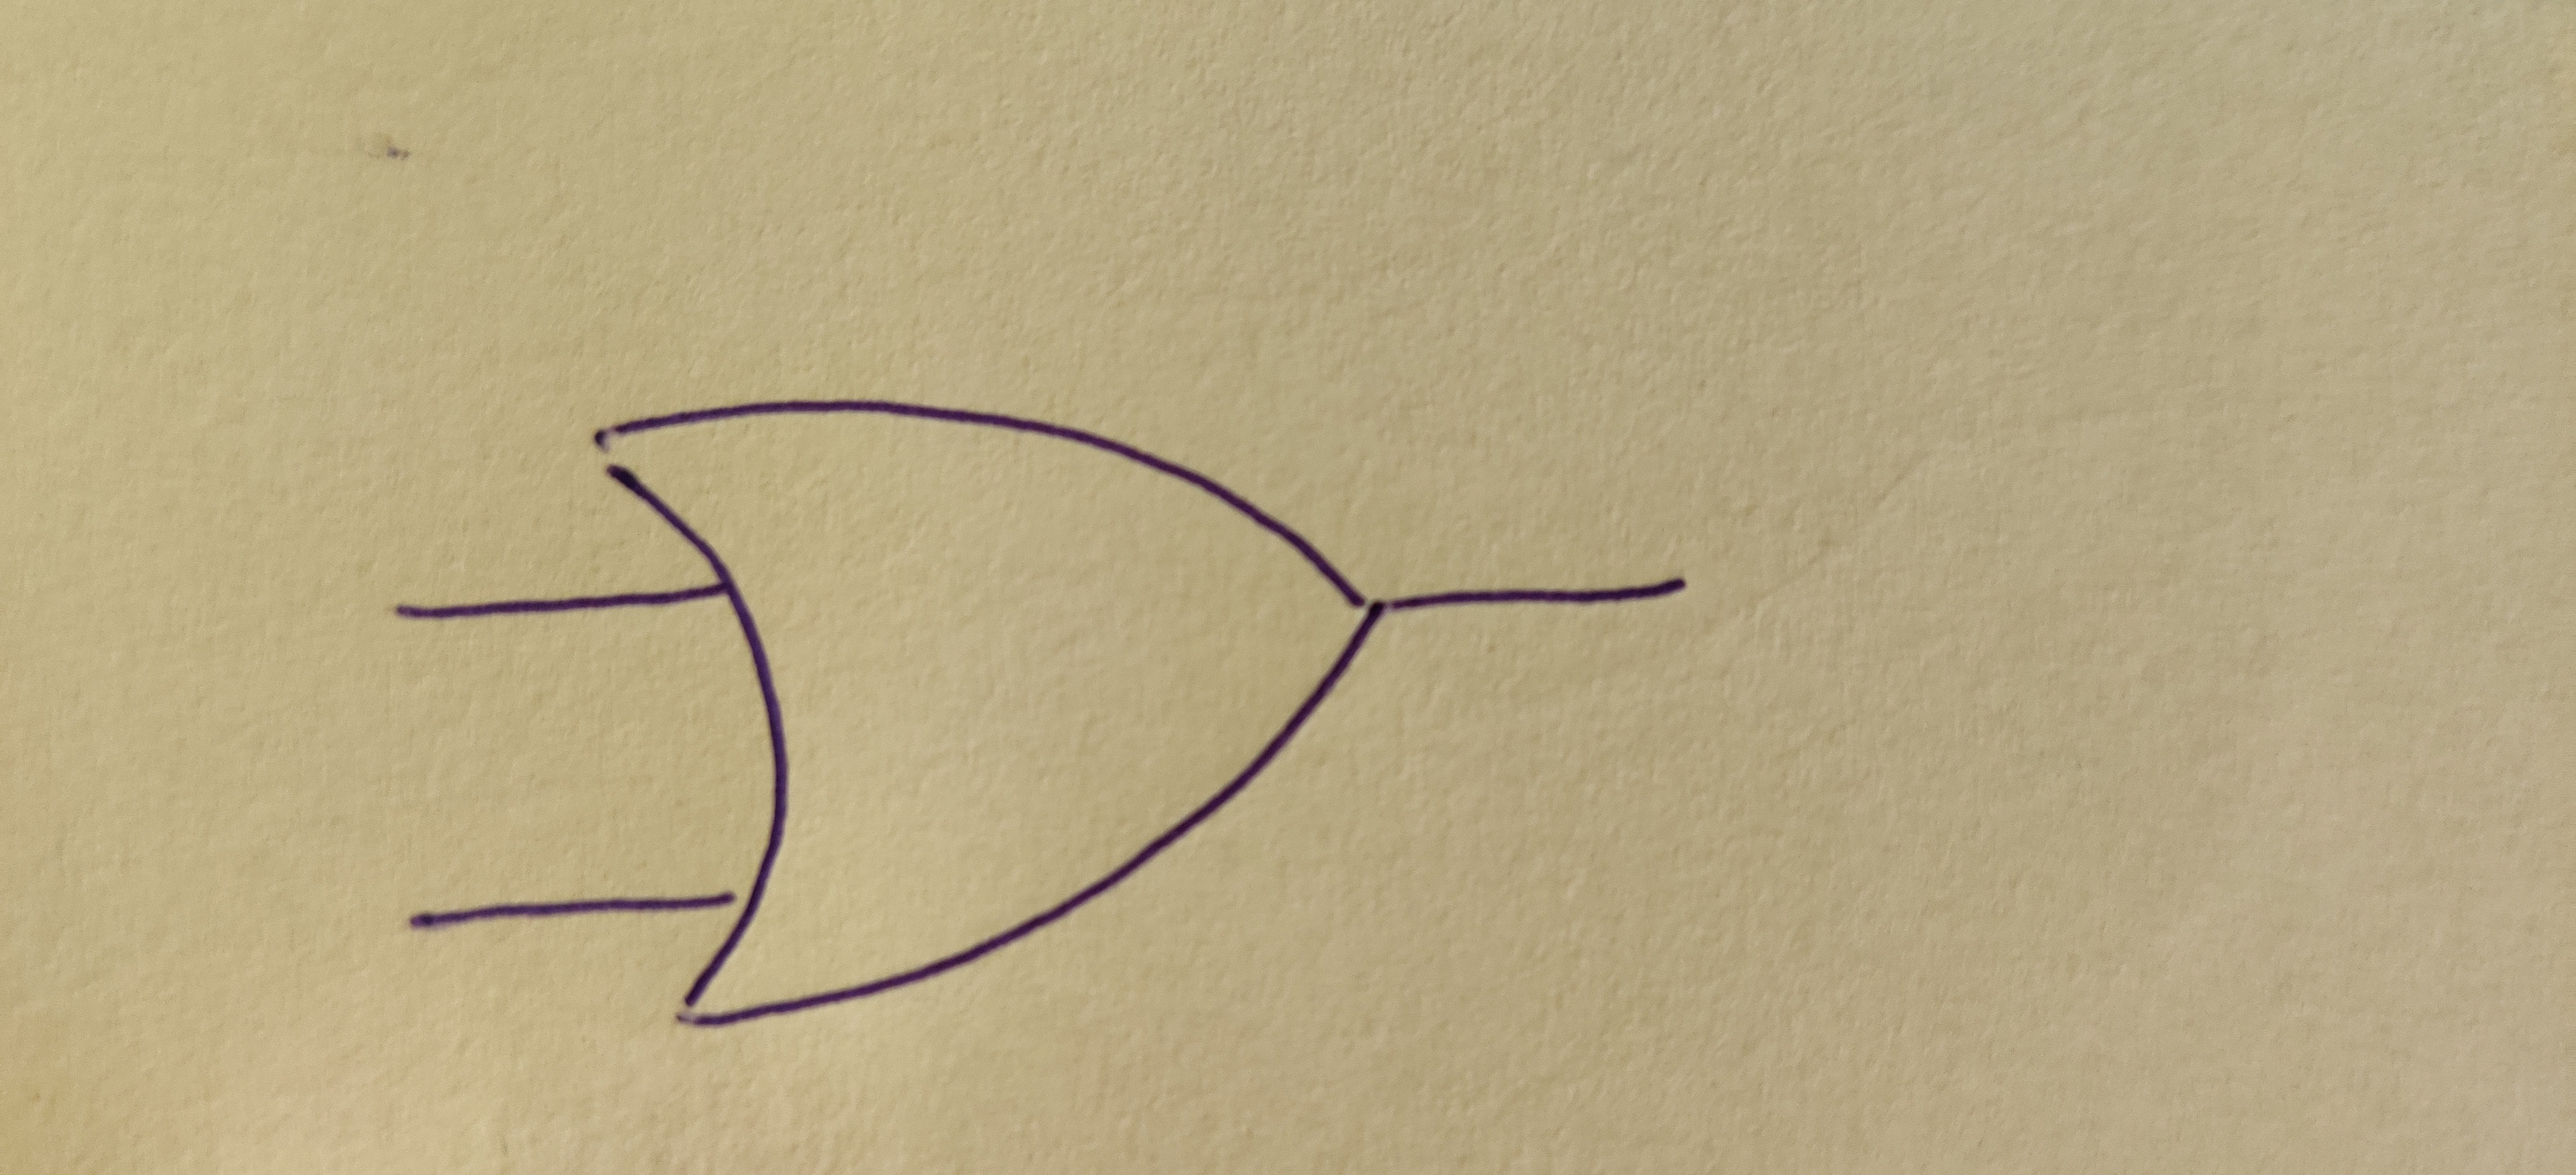or: (593, 406, 1380, 1024)
